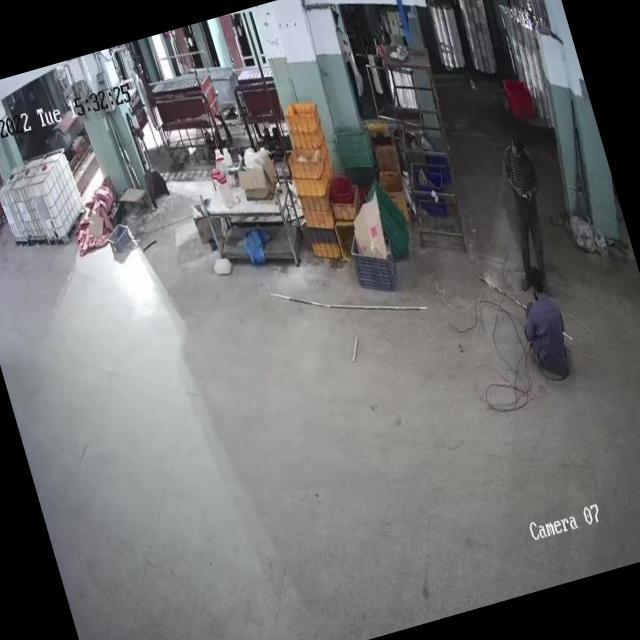person: (489, 132, 564, 296), (514, 276, 580, 386)
